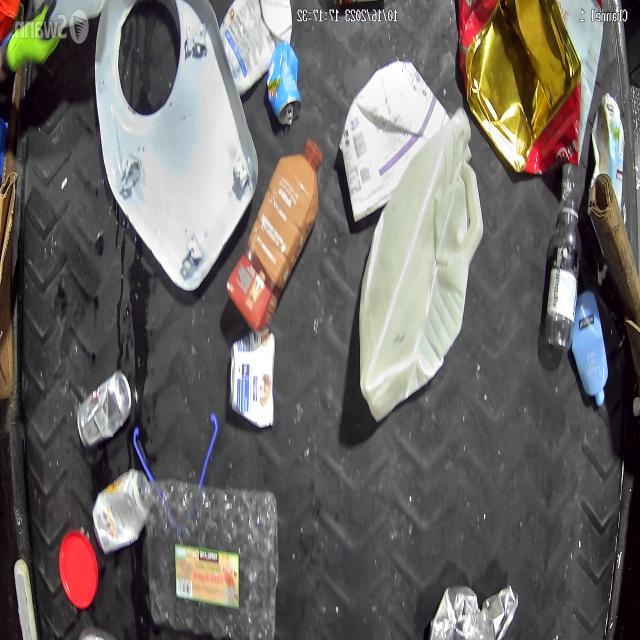can: (91, 464, 155, 557), (73, 366, 136, 454), (262, 44, 299, 138)
milk_jug: (356, 105, 484, 428), (219, 0, 295, 92)
non_white_jug: (225, 140, 328, 333)
plastic_bottle: (541, 193, 582, 373)
